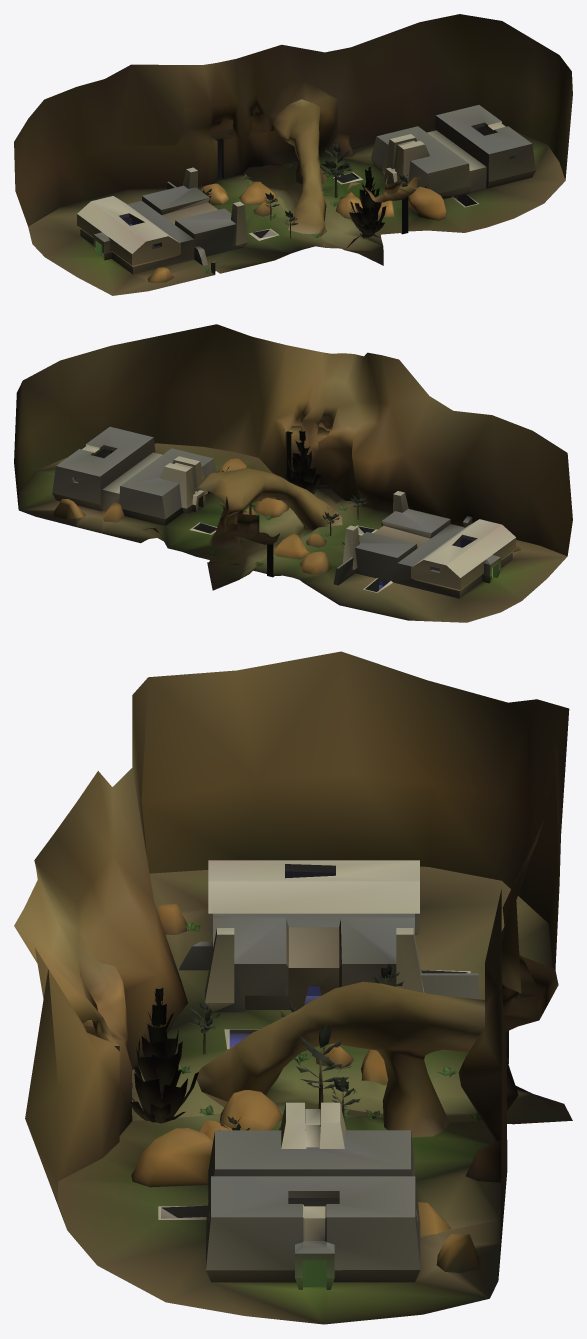
Rendered from BCK.glb.
3 views of the same model, one above another, from view 1: azimuth 30°, elevation 25°; view 2: azimuth 150°, elevation 25°; view 3: azimuth 270°, elevation 25° (orthographic). The views are drawn at different scales.
Parts seen in each view (by area): view 1: BCK; view 2: BCK; view 3: BCK.
Boxes of the visible parts, x1,y1,x2,y2 form: BCK: (14, 14, 572, 295); BCK: (14, 324, 572, 622); BCK: (14, 651, 572, 1324).
Size of the model in its own units: 131 by 37.92 by 64.33.
